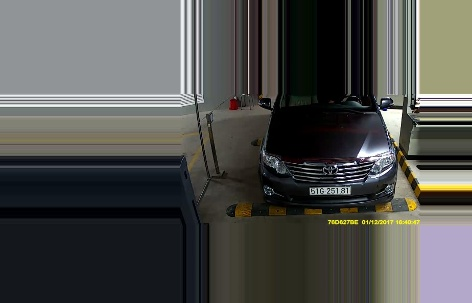plate: (307, 184, 350, 196)
